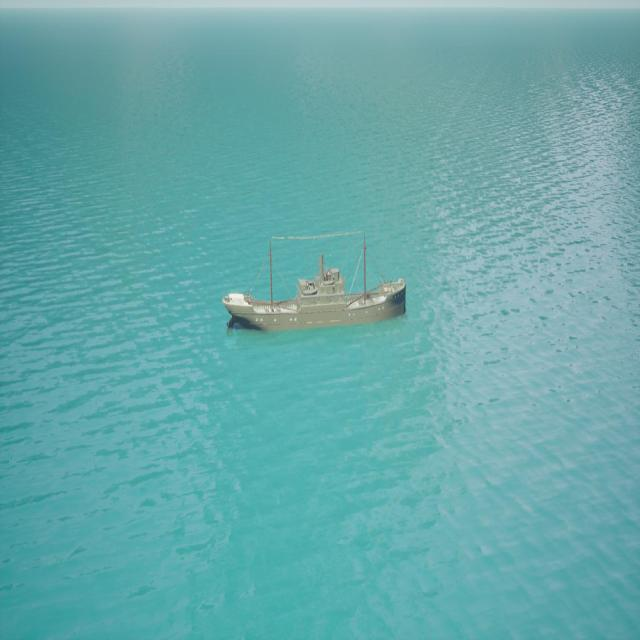fishing ship: (224, 231, 409, 336)
